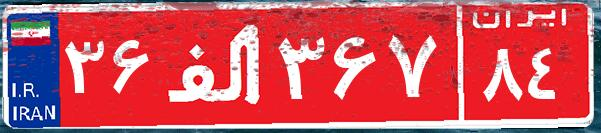3: (273, 28, 330, 110), (57, 26, 110, 107)
4: (525, 38, 570, 115)
6: (330, 28, 385, 110), (110, 28, 158, 105)
7: (385, 28, 445, 110)
8: (475, 38, 525, 113)
الف: (158, 15, 273, 115)
